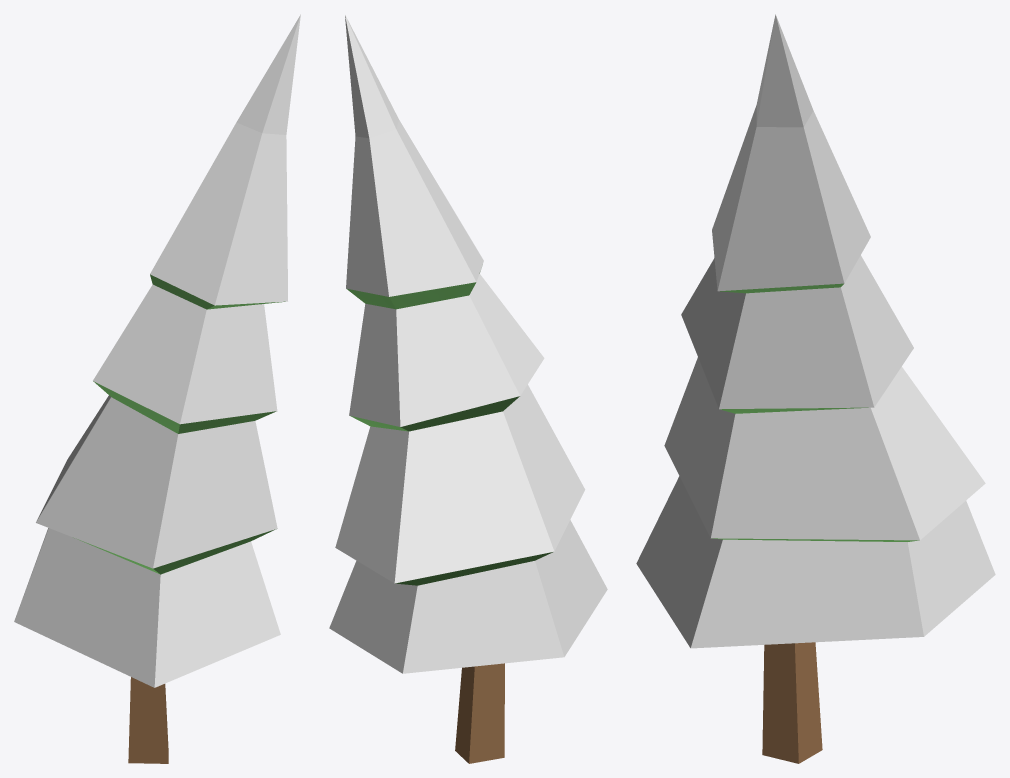
File: Fir_Tree_m_Snow_12_LOD.fbx
3 views of the same model, side by side, from view 1: azimuth 30°, elevation 25°; view 2: azimuth 150°, elevation 25°; view 3: azimuth 270°, elevation 25° (orthographic). The views are drawn at different scales.
Parts seen in each view (by area): view 1: Fir_Tree_m_Snow_12_LOD0; view 2: Fir_Tree_m_Snow_12_LOD0; view 3: Fir_Tree_m_Snow_12_LOD0.
Part boxes in pixels (x1,y1,x2,y2): Fir_Tree_m_Snow_12_LOD0: (14, 14, 300, 763); Fir_Tree_m_Snow_12_LOD0: (329, 15, 607, 763); Fir_Tree_m_Snow_12_LOD0: (636, 14, 995, 763).
Size of what is drawn, in the model's own units: 175 by 468 by 186.
